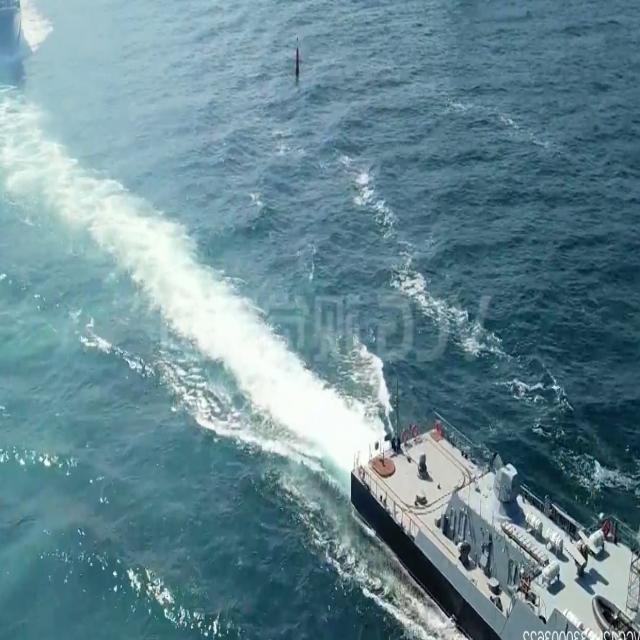navalvessels: (347, 391, 640, 640)
